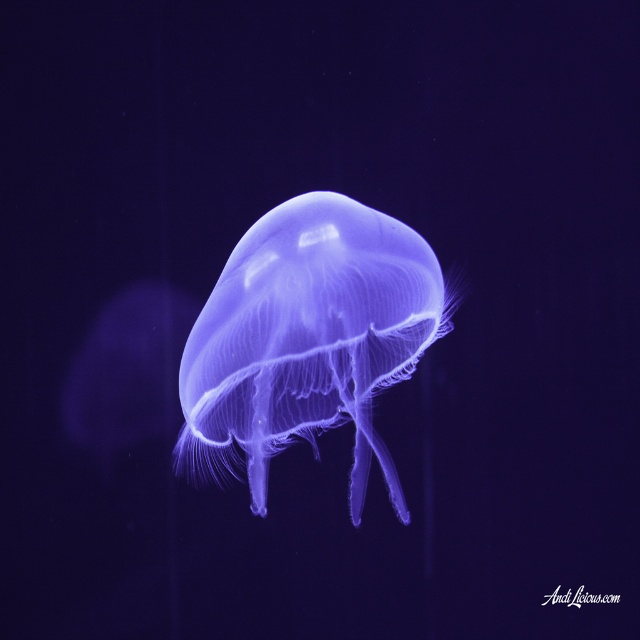Jellyfish: (170, 190, 470, 530)
